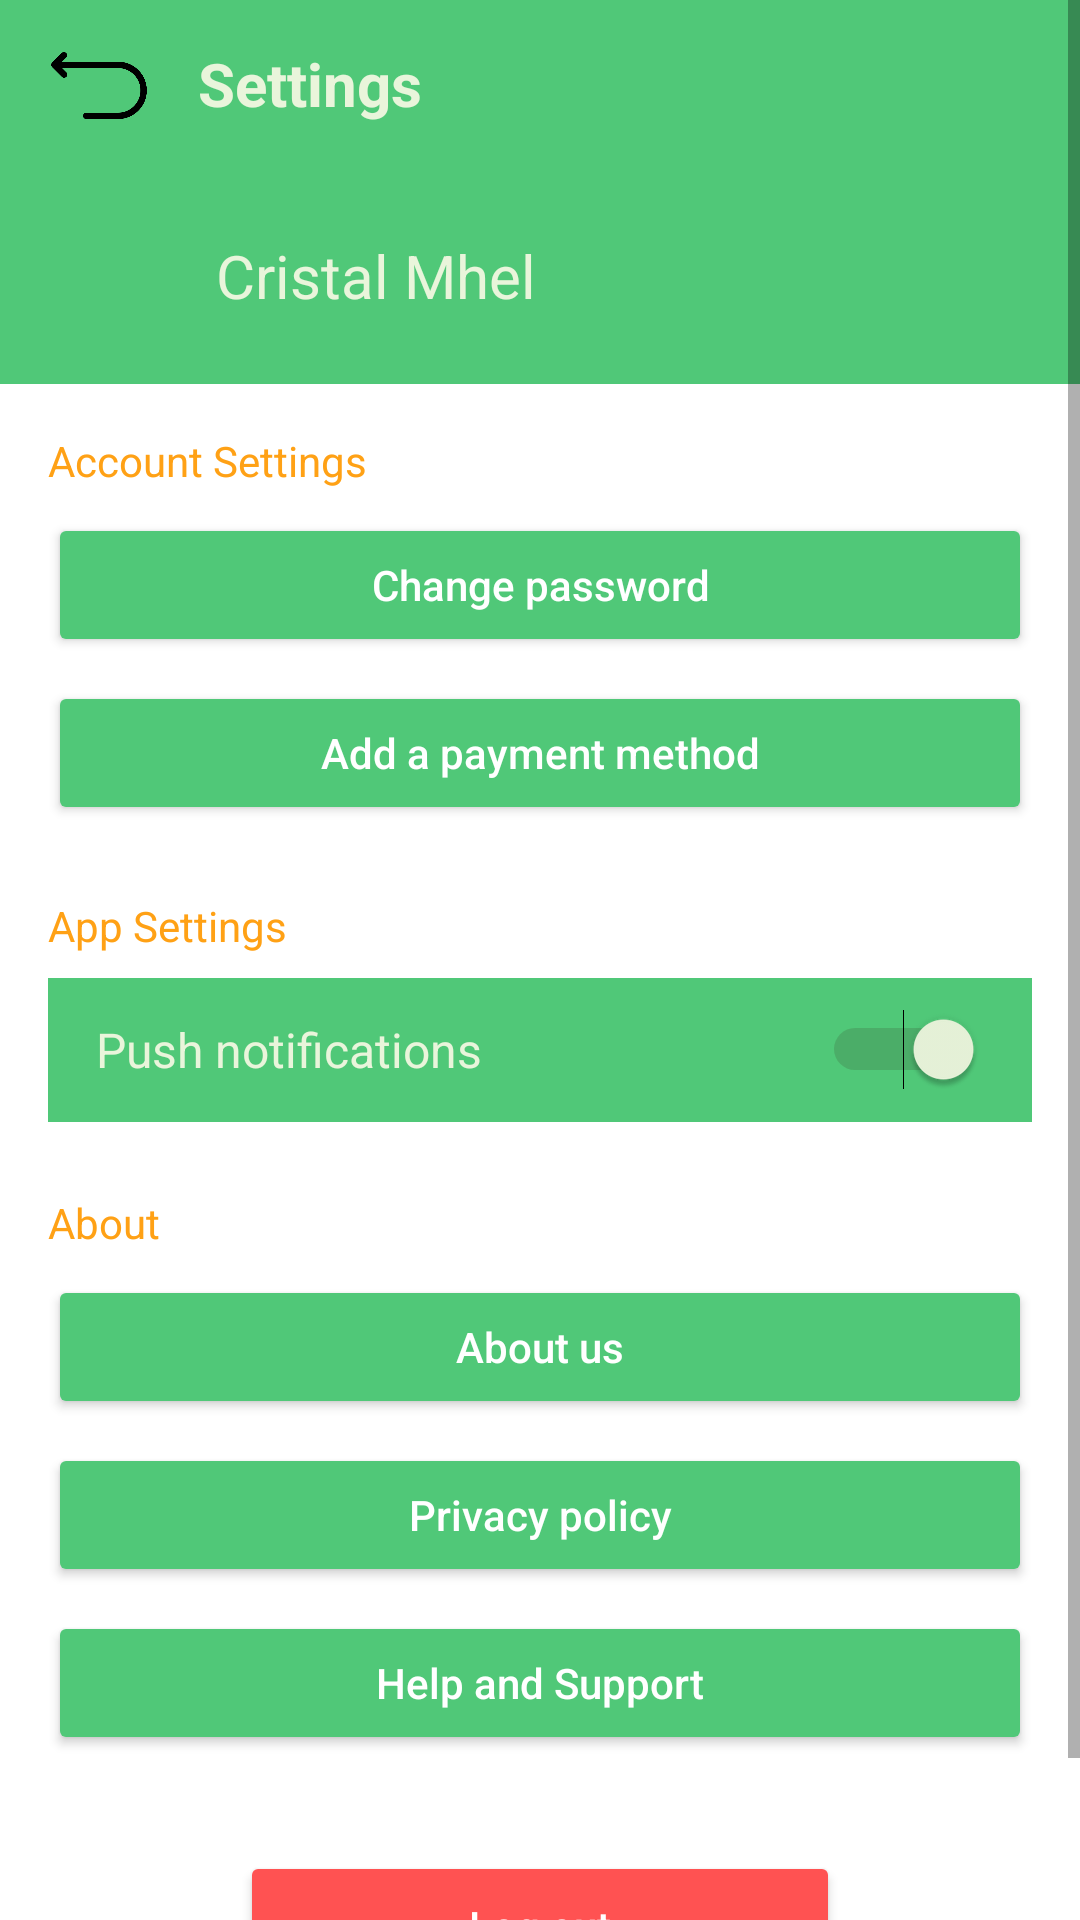

Icon click points for this 1080w x 1920h phone screenshot, format point (x, y):
Back: point (99, 85)
